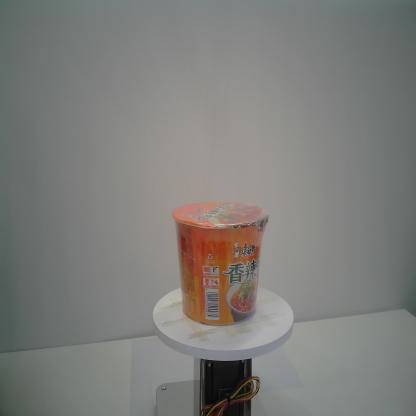Instant Noodles: (171, 200, 270, 326)
